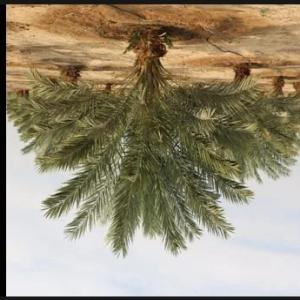palm tree: (6, 24, 299, 258)
